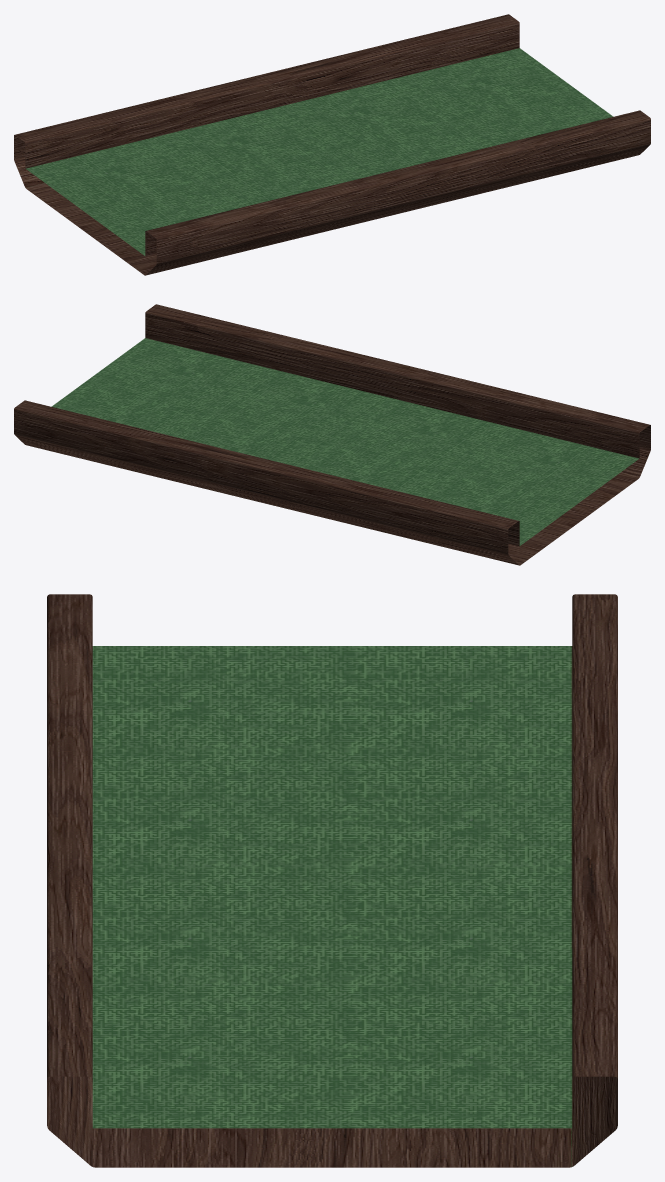
File: Course_Straight.glb
3 views of the same model, one above another, from view 1: azimuth 30°, elevation 25°; view 2: azimuth 150°, elevation 25°; view 3: azimuth 270°, elevation 25° (orthographic). The views are drawn at different scales.
Visible parts, largest first — view 1: CourseStraight.Green, CourseStraight.Walls; view 2: CourseStraight.Green, CourseStraight.Walls; view 3: CourseStraight.Green, CourseStraight.Walls.
Part boxes in pixels (left/top/right/bottom): CourseStraight.Green: left=26, top=48, right=613, bottom=255; CourseStraight.Walls: left=14, top=14, right=650, bottom=275; CourseStraight.Green: left=51, top=338, right=638, bottom=545; CourseStraight.Walls: left=14, top=304, right=650, bottom=565; CourseStraight.Green: left=92, top=646, right=572, bottom=1128; CourseStraight.Walls: left=47, top=594, right=617, bottom=1167.
Size of the model in its own units: 2 by 0.1759 by 1.
1 material, 1 textured.
